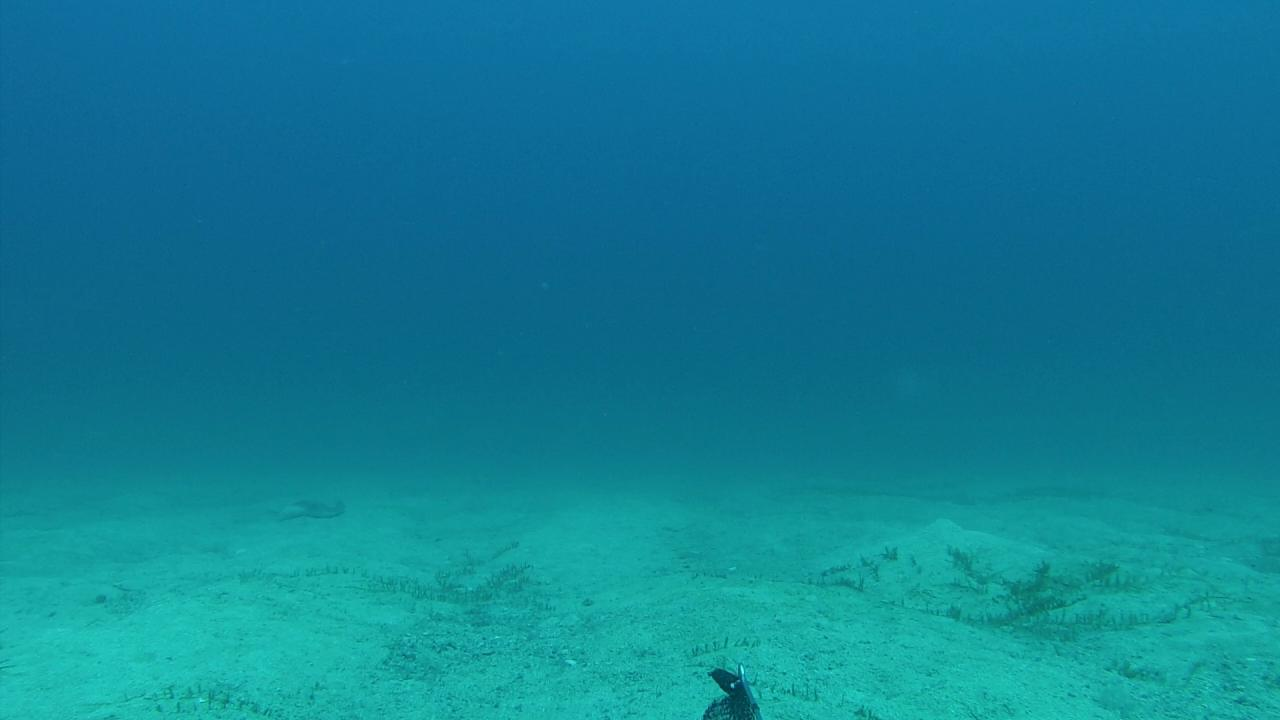dasyatis: (260, 497, 348, 521)
